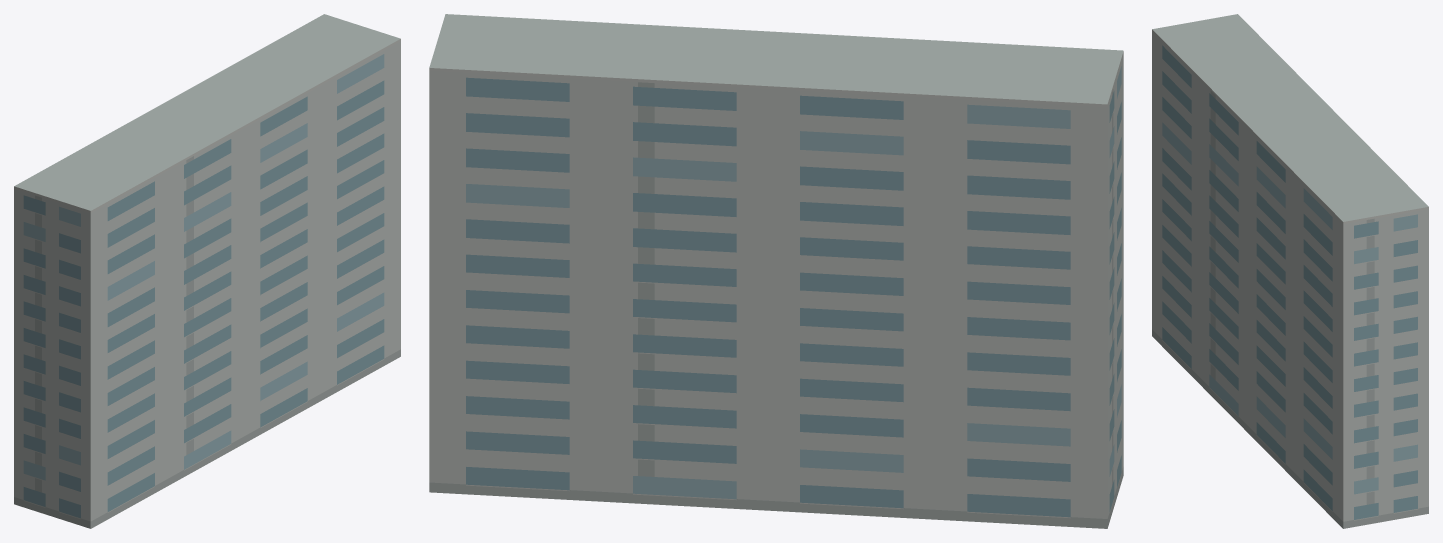
Rendered from residential-8d81482b-2eb4-4996-9314-374dcd5913cb.glb.
3 renders of one model, left to right at view 1: azimuth 30°, elevation 25°; view 2: azimuth 150°, elevation 25°; view 3: azimuth 270°, elevation 25°, orthographic. The views are drawn at different scales.
Parts seen in each view (by area): view 1: residential-8d81482b-2eb4-4996-9314-374dcd5913cb.tmp; view 2: residential-8d81482b-2eb4-4996-9314-374dcd5913cb.tmp; view 3: residential-8d81482b-2eb4-4996-9314-374dcd5913cb.tmp.
Boxes of the visible parts, <box> form: residential-8d81482b-2eb4-4996-9314-374dcd5913cb.tmp: <box>14,14,400,528</box>; residential-8d81482b-2eb4-4996-9314-374dcd5913cb.tmp: <box>429,14,1123,528</box>; residential-8d81482b-2eb4-4996-9314-374dcd5913cb.tmp: <box>1152,14,1428,528</box>.
Bounding box in the file's own units: 47.95 × 33 × 26.98.
